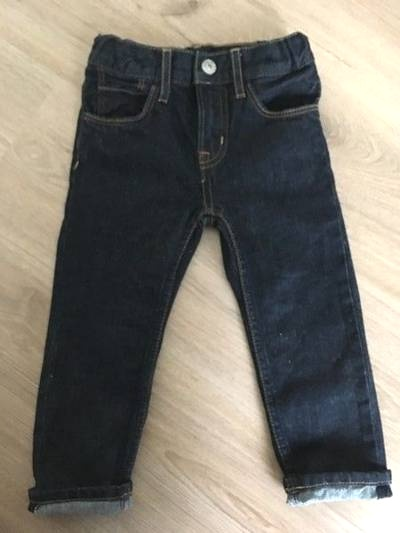Pants: (18, 17, 389, 514)
